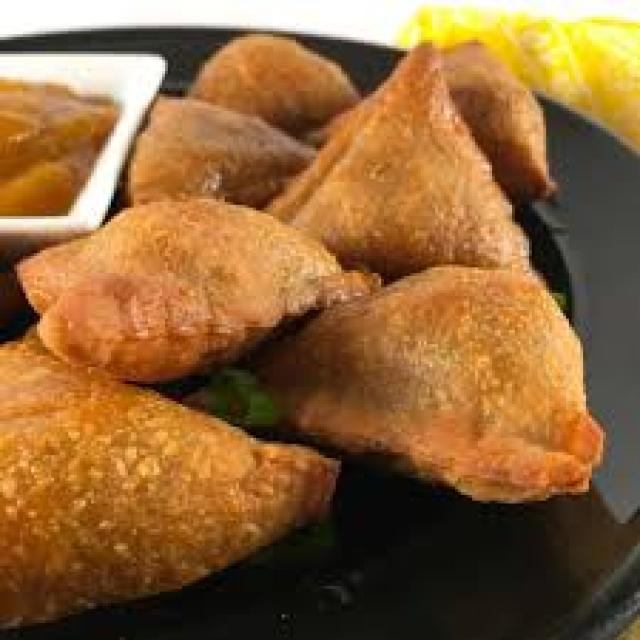SAMOSA: (0, 327, 336, 626), (256, 267, 600, 498), (20, 199, 375, 378), (270, 46, 526, 276), (131, 97, 313, 208), (191, 37, 356, 134), (444, 43, 549, 193)
